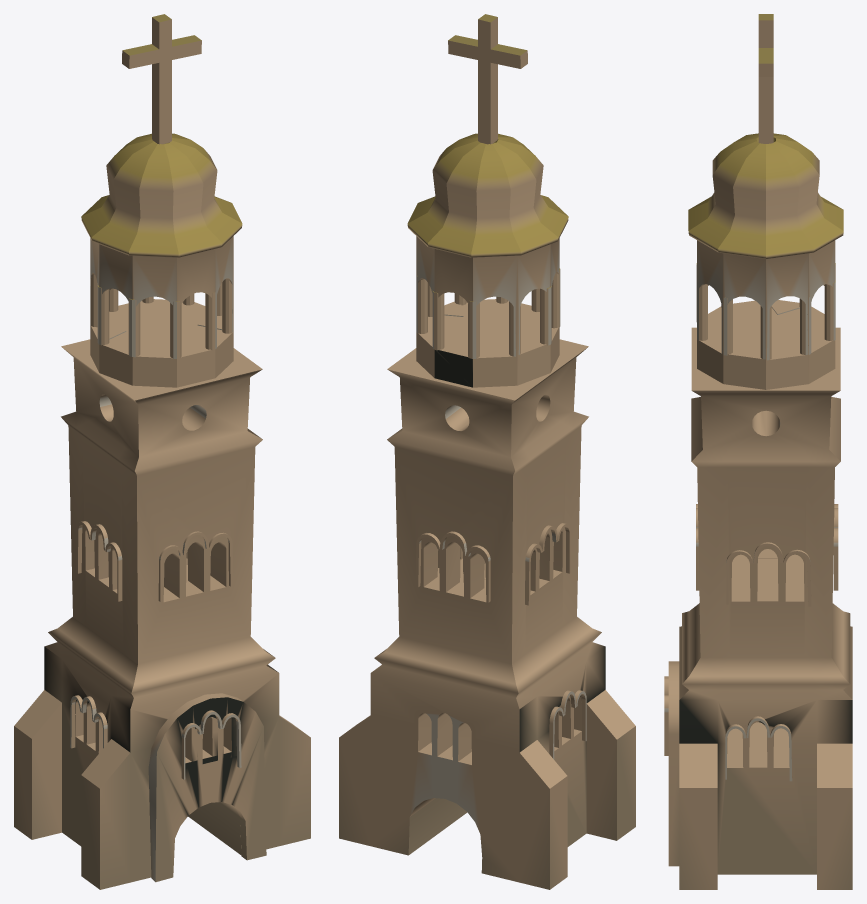
3 views of the same model, side by side, from view 1: azimuth 30°, elevation 25°; view 2: azimuth 150°, elevation 25°; view 3: azimuth 270°, elevation 25° (orthographic).
Parts seen in each view (by area): view 1: pCylinder54:PIV; view 2: pCylinder54:PIV; view 3: pCylinder54:PIV.
Part boxes in pixels (bbox=[...]): pCylinder54:PIV: bbox=[14, 14, 310, 889]; pCylinder54:PIV: bbox=[339, 14, 635, 889]; pCylinder54:PIV: bbox=[664, 14, 852, 889].
Size of the model in its own units: 16.54 by 61.19 by 12.73.
